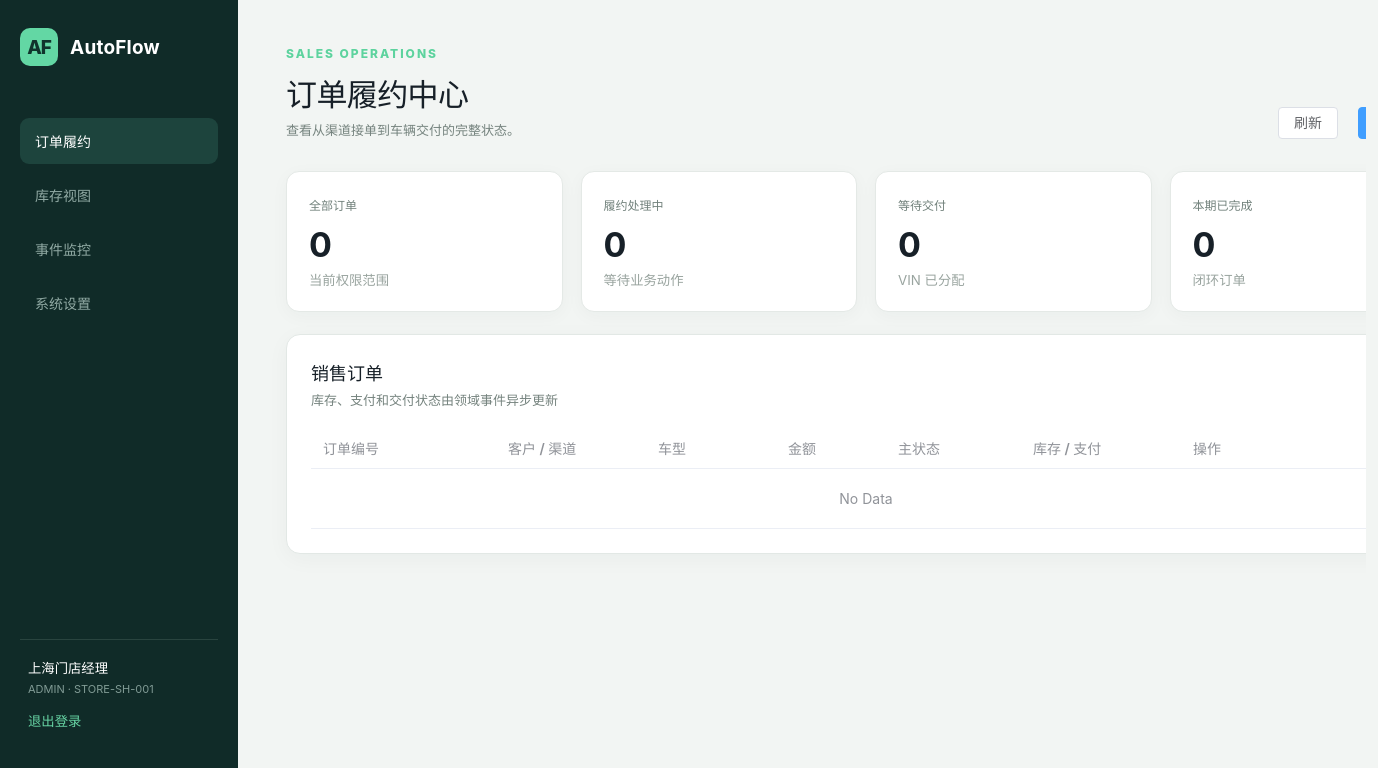
Scenario: sidebar navigation › switches to 事件监控 when its menu item is clicked
The width and height of the screenshot is (1378, 768).
Click the button "事件监控" at (119, 249), box x1=20 y1=226 x2=218 y2=272
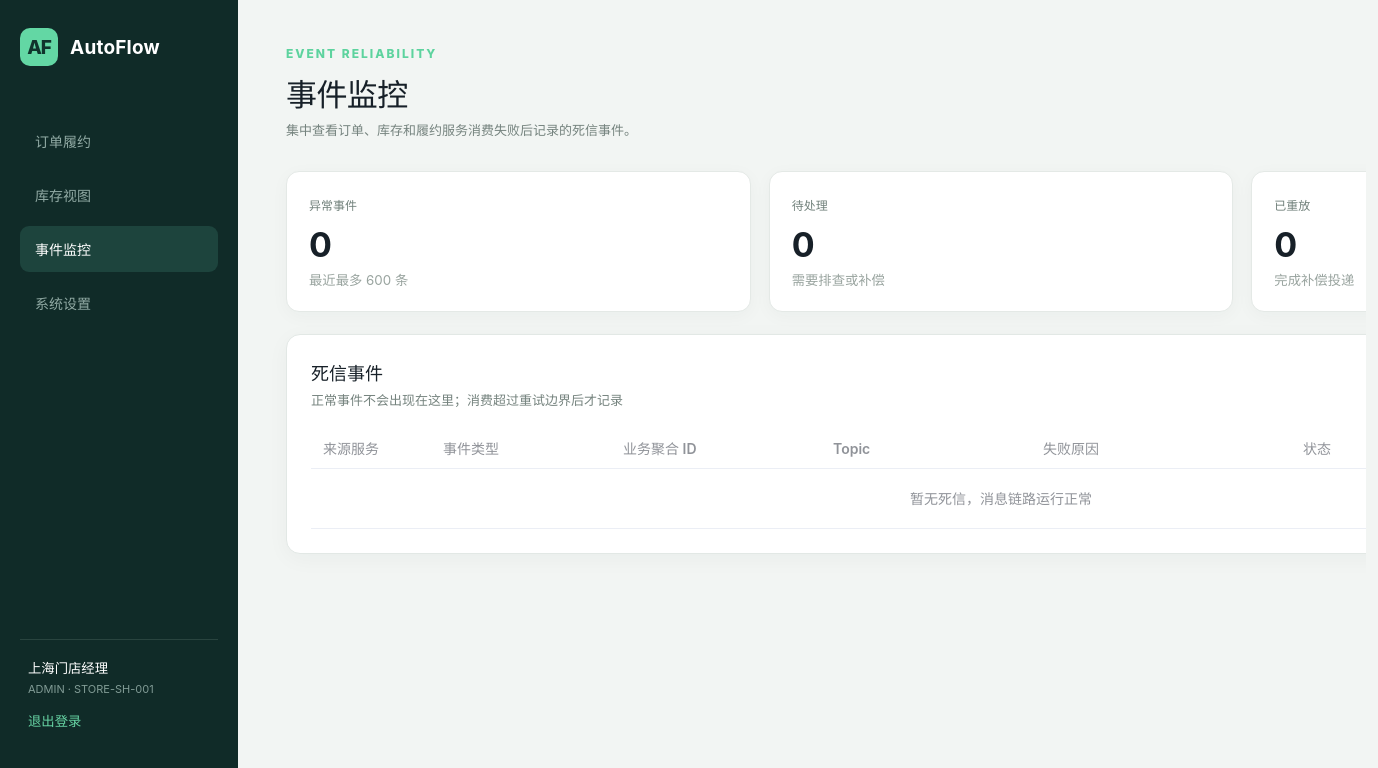
Check: the heading "事件监控" is shown, box x1=286 y1=76 x2=408 y2=113
